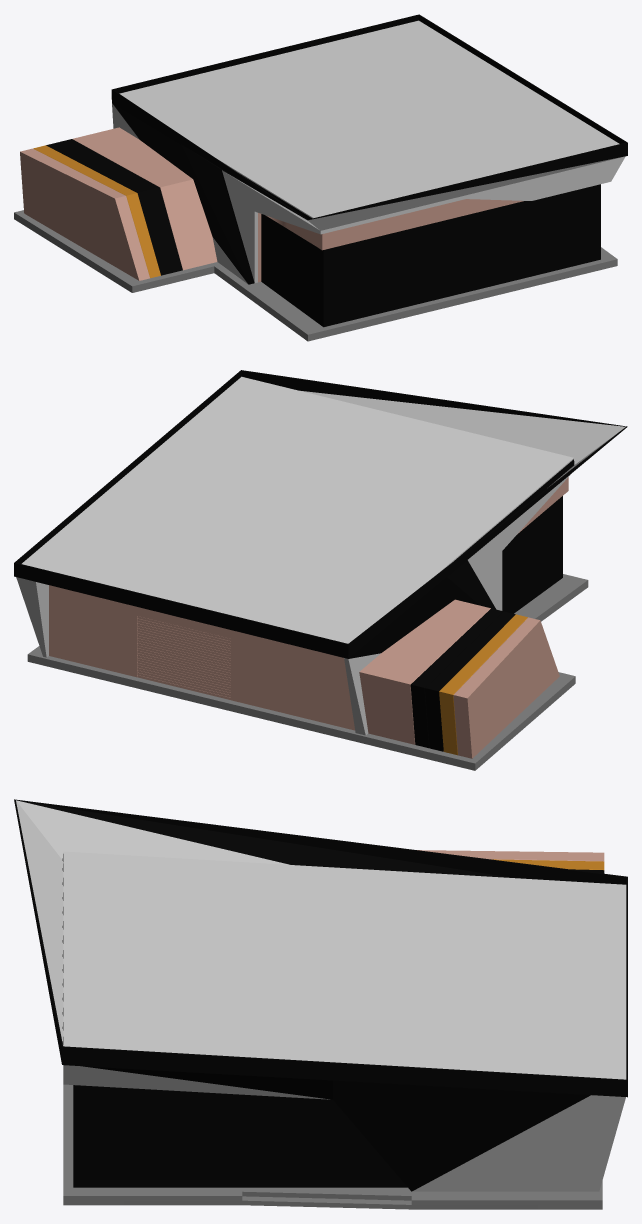
File: Car showroom Building Free 3D Model.FBX
3 views of the same model, one above another, from view 1: azimuth 30°, elevation 25°; view 2: azimuth 150°, elevation 25°; view 3: azimuth 270°, elevation 25° (orthographic). The views are drawn at different scales.
Visible parts, largest first — view 1: Car_Showroom45, Car_Showroom01, Car_Showroom04, Car_Showroom06, Car_Showroom05, Car_Showroom03, Car_Showroom02, Car_Showroom21, Car_Showroom23; view 2: Car_Showroom45, Car_Showroom06, Car_Showroom04, Car_Showroom28, Car_Showroom05, Car_Showroom49, Car_Showroom01, Car_Showroom03, Car_Showroom42; view 3: Car_Showroom45, Car_Showroom06, Car_Showroom03, Car_Showroom01, Car_Showroom05, Car_Showroom04, Car_Showroom23, Car_Showroom24.
Boxes of the visible parts, x1,y1,x2,y2 form: Car_Showroom45: (119,20,619,218); Car_Showroom01: (261,186,593,325); Car_Showroom04: (20,127,217,280); Car_Showroom06: (111,14,627,284); Car_Showroom05: (14,210,617,341); Car_Showroom03: (221,156,625,282); Car_Showroom02: (258,199,523,282); Car_Showroom21: (319,248,330,326); Car_Showroom23: (593,184,600,260); Car_Showroom45: (22,376,573,643); Car_Showroom06: (14,370,627,735); Car_Showroom04: (359,599,559,758); Car_Showroom28: (49,585,354,730); Car_Showroom05: (27,574,588,770); Car_Showroom49: (137,616,230,699); Car_Showroom01: (502,500,558,613); Car_Showroom03: (16,474,570,733); Car_Showroom42: (454,459,574,560); Car_Showroom45: (63,851,626,1079); Car_Showroom06: (14,799,627,1097); Car_Showroom03: (63,1065,625,1191); Car_Showroom01: (85,1085,406,1187); Car_Showroom05: (63,1084,602,1209); Car_Showroom04: (417,850,604,873); Car_Showroom23: (73,1085,85,1187); Car_Showroom24: (242,1094,254,1187).
Bounding box in the file's own units: 19200 × 18153 × 6150.
